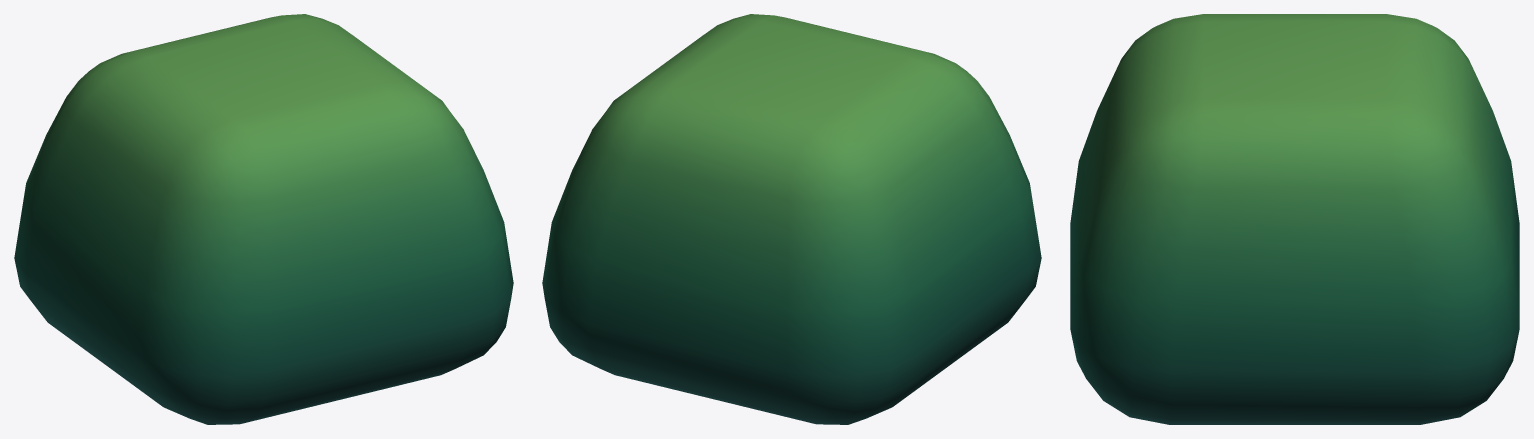
The model's file is Bush.fbx.
3 renders of one model, left to right at view 1: azimuth 30°, elevation 25°; view 2: azimuth 150°, elevation 25°; view 3: azimuth 270°, elevation 25°, orthographic. The views are drawn at different scales.
Parts seen in each view (by area): view 1: Bush; view 2: Bush; view 3: Bush.
Boxes of the visible parts, x1,y1,x2,y2 form: Bush: (14,14,513,424); Bush: (542,14,1041,424); Bush: (1070,14,1519,424).
Bounding box in the file's own units: 0.5372 × 0.3977 × 0.5372.
